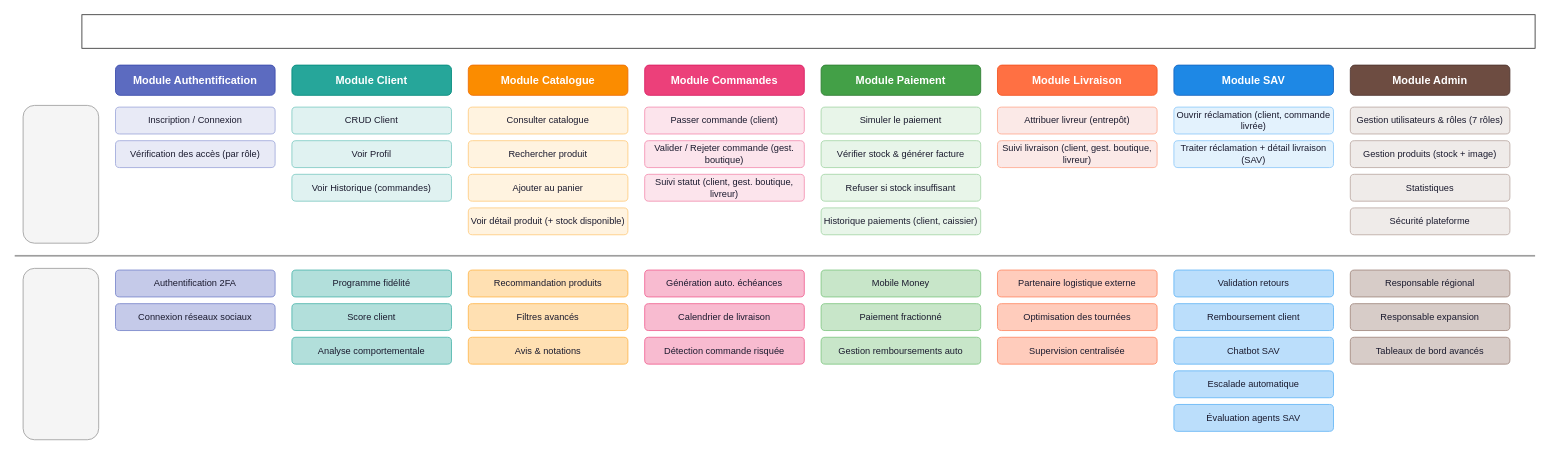
Image size: 1550x454. Some labels were removed from this diagram. Here are the shapes that lost their labels. From the top down, the centre of each, then its label:
At point (808, 31): "USER STORY MAPPING V2 — Numérisation Boutique (adapté)".
At point (60, 174): "MVP".
At point (60, 354): "V2".
